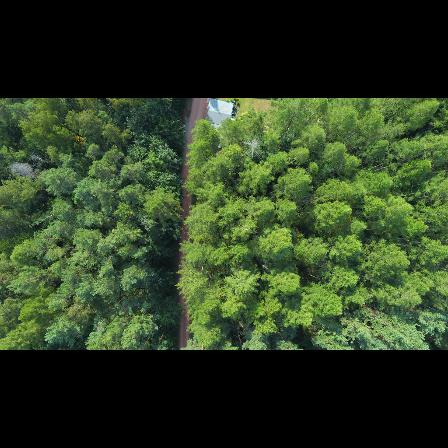Dead: (240, 133, 264, 159), (8, 161, 39, 180), (30, 150, 48, 164)
